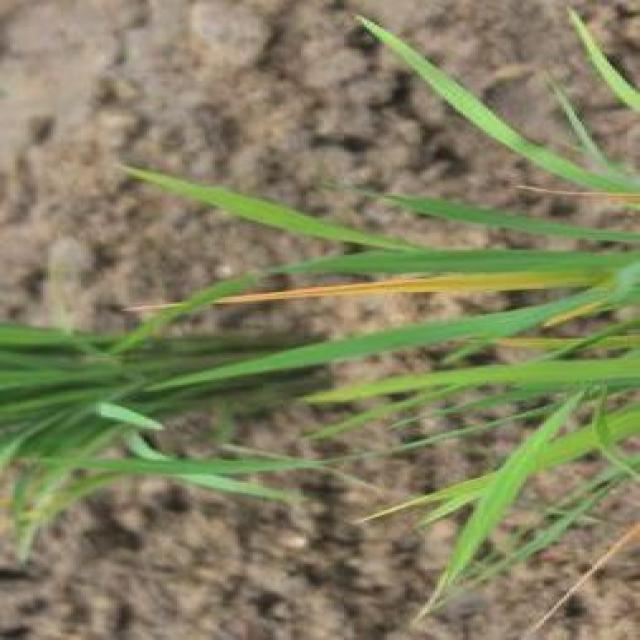Rice Tungro: (192, 272, 565, 321)
